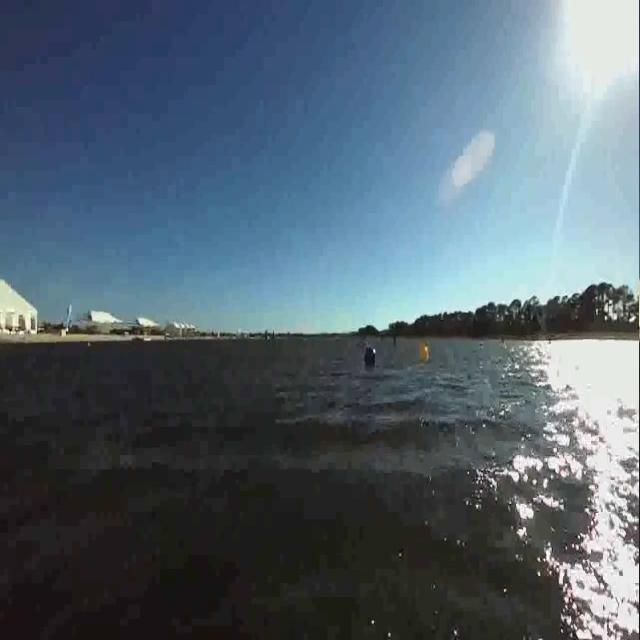blue-buoy: (362, 345, 376, 367)
yellow-buoy: (420, 343, 430, 362)
